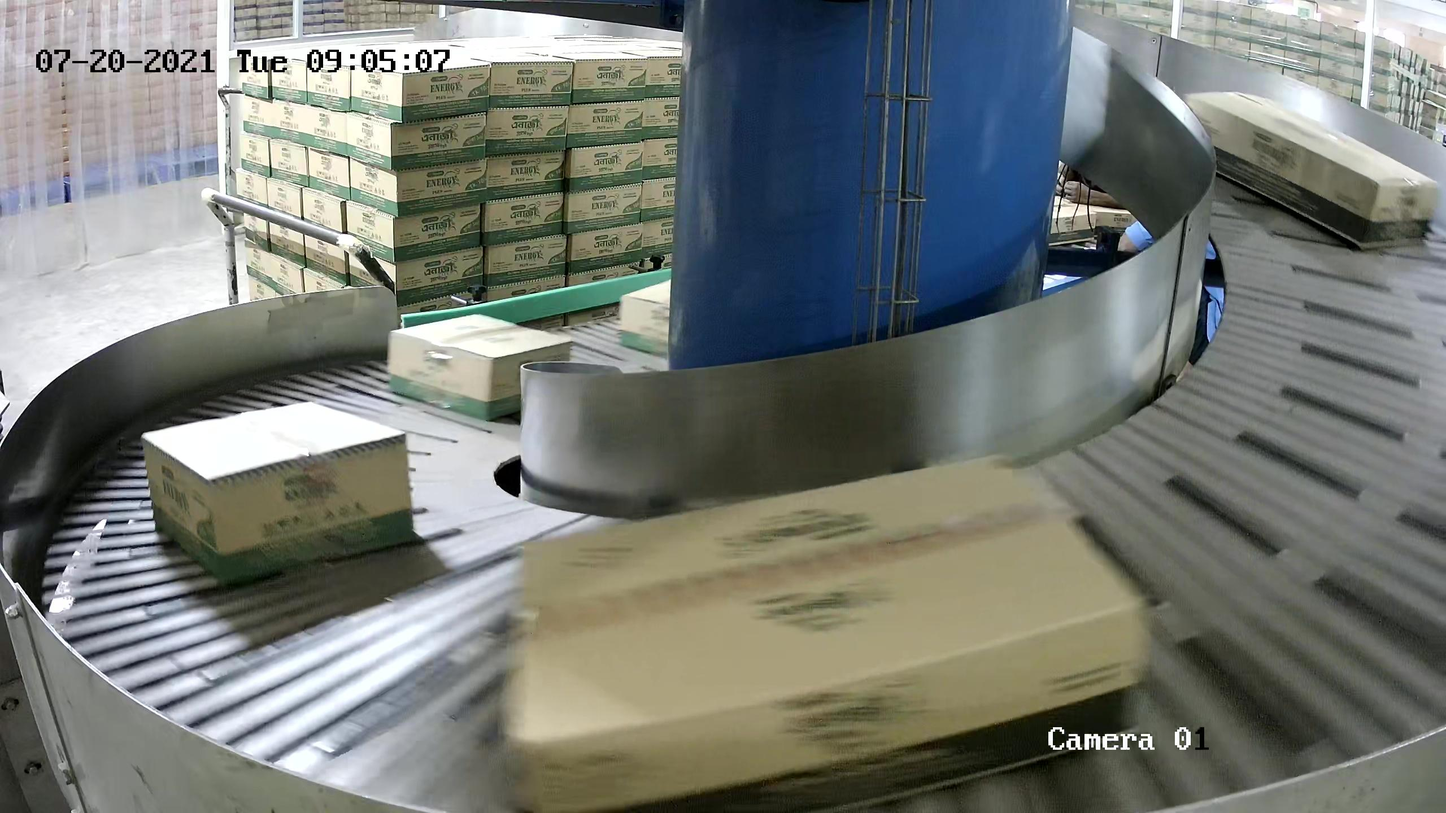Box: (492, 447, 1154, 813), (139, 399, 417, 585), (1181, 90, 1441, 249), (387, 312, 574, 421), (618, 278, 672, 360)
